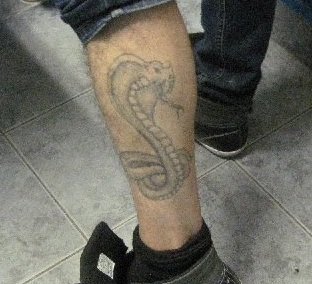tatu7_zmeya: (101, 48, 203, 201)
